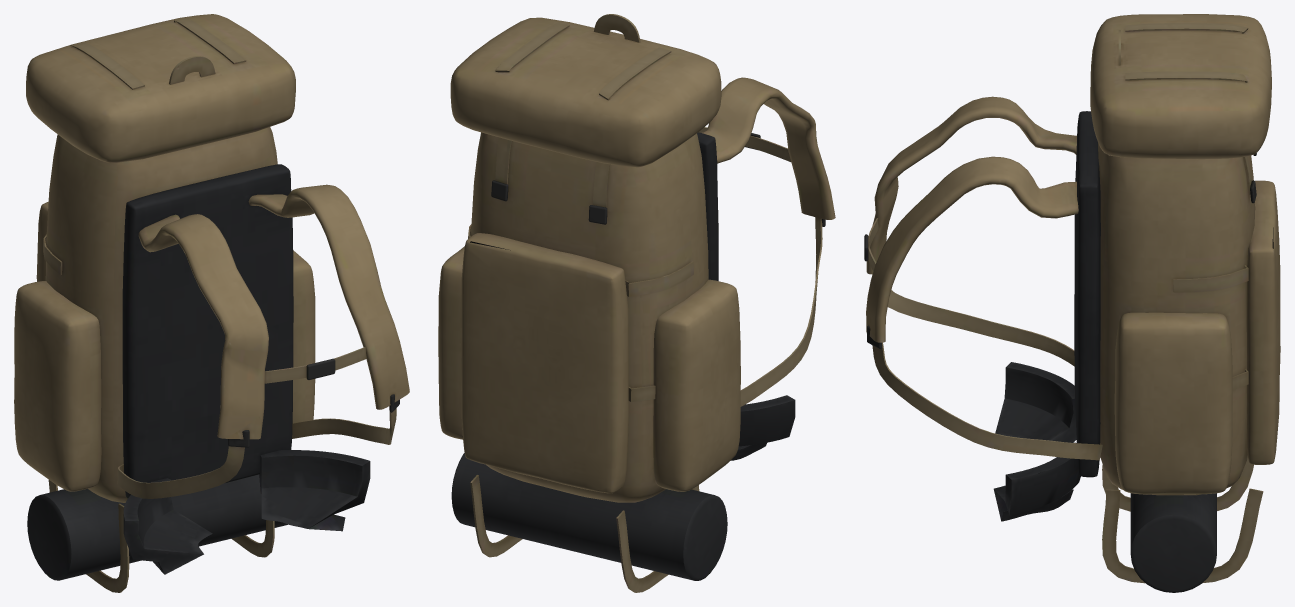
The model's file is backpack_3.glb.
3 views of the same model, side by side, from view 1: azimuth 30°, elevation 25°; view 2: azimuth 150°, elevation 25°; view 3: azimuth 270°, elevation 25° (orthographic).
Parts seen in each view (by area): view 1: body; view 2: body; view 3: body.
Boxes of the visible parts, x1,y1,x2,y2 form: body: (14,14,409,592); body: (438,14,835,592); body: (864,14,1280,592).
Bounding box in the file's own units: 0.4695 × 0.8938 × 0.6545.
1 material, 1 textured.
